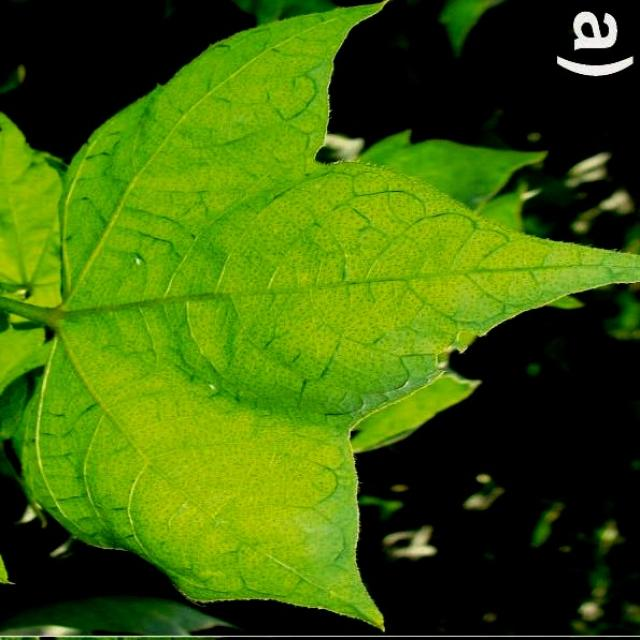Leaf Curl Virus: (85, 123, 451, 464)
